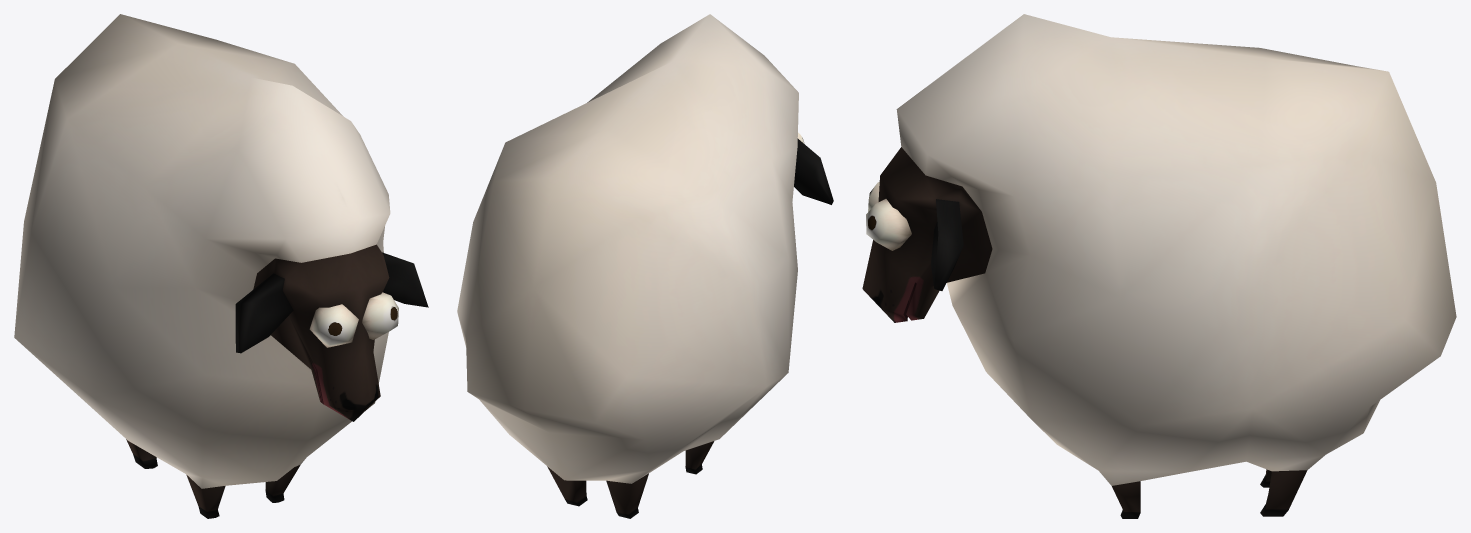
File: farm_sheep.fbx
3 views of the same model, side by side, from view 1: azimuth 30°, elevation 25°; view 2: azimuth 150°, elevation 25°; view 3: azimuth 270°, elevation 25° (orthographic). The views are drawn at different scales.
Visible parts, largest first — view 1: farm:sheep; view 2: farm:sheep; view 3: farm:sheep.
Boxes of the visible parts, box(x1,y1,x2,y2) form: farm:sheep: box(14, 14, 428, 518); farm:sheep: box(457, 14, 833, 518); farm:sheep: box(862, 14, 1456, 518).
Bounding box in the file's own units: 1.06 × 1.37 × 1.52.
